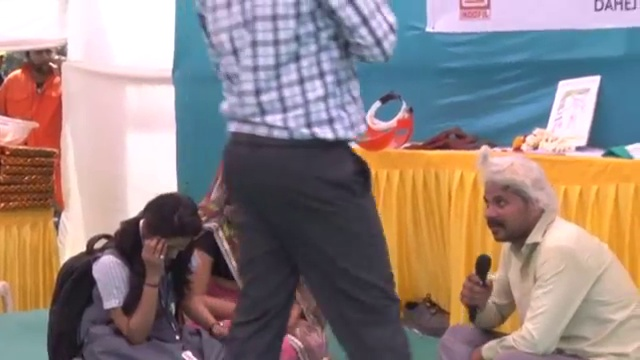helmet: (0, 111, 40, 151)
helmet_off: (474, 159, 556, 250), (130, 194, 201, 260), (23, 42, 56, 74)
person: (193, 13, 423, 359), (436, 160, 637, 357), (180, 167, 331, 360), (42, 192, 199, 359), (0, 42, 67, 155)
